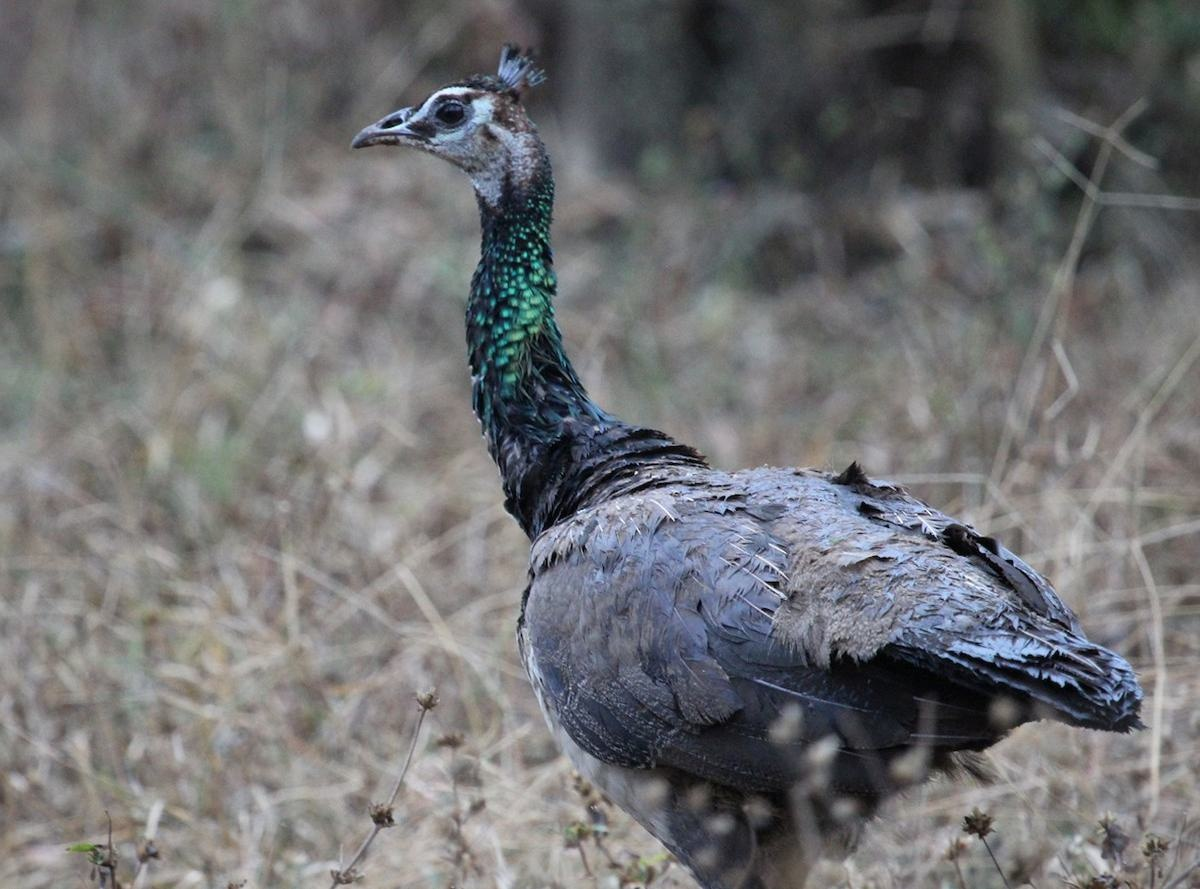peacock: (344, 66, 1018, 827)
